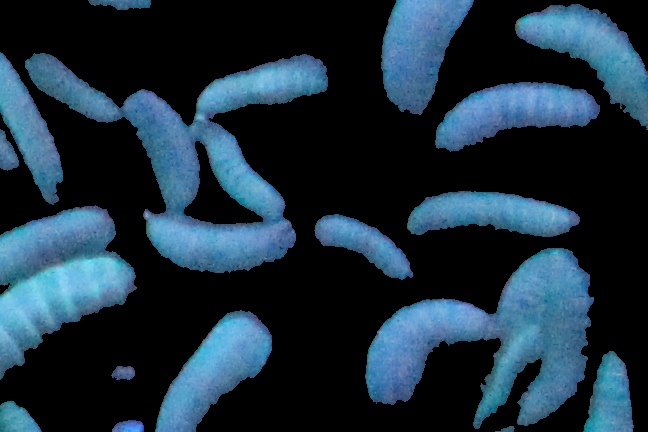larvae: (1, 259, 143, 428), (520, 4, 648, 124), (153, 310, 274, 432), (363, 295, 490, 402), (383, 1, 475, 132), (434, 84, 600, 153), (1, 42, 66, 208), (403, 187, 583, 245), (117, 87, 200, 210), (529, 249, 587, 422), (1, 210, 119, 293), (146, 215, 300, 278), (197, 52, 336, 119), (200, 122, 288, 216), (27, 47, 125, 130), (312, 212, 412, 280), (490, 252, 544, 373), (586, 345, 634, 432)
